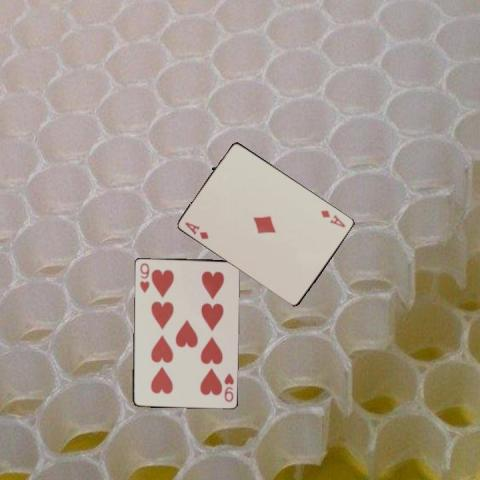9h: (136, 260, 150, 294), (221, 370, 235, 403)
Ad: (318, 206, 347, 228), (182, 219, 211, 241)
